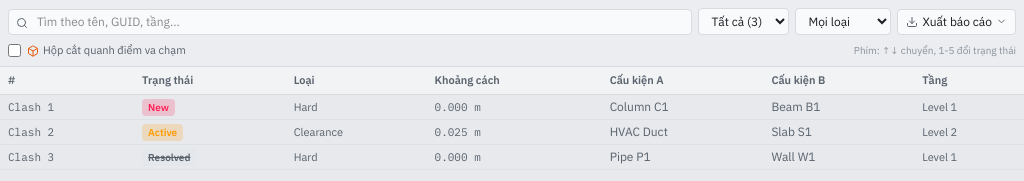
Test case: ClashResultsTable component & interactive review › filters rows by status and search query
The image size is (1024, 181).
# Filter by status Active
Select "Active" in the dropdown with test id "status-filter-select" at (744, 22), box x1=698 y1=8 x2=789 y2=35
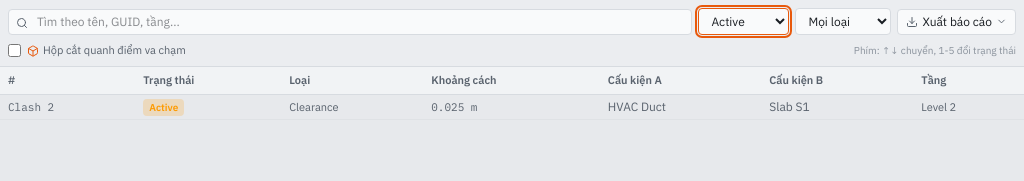
Expected: the text "Clash 2" is shown, x1=0 y1=94 x2=135 y2=120
Result: the text "Clash 1" is gone
Result: the text "Clash 3" is gone
# Reset status filter and search query
Select "Tất cả (3)" in the dropdown with test id "status-filter-select" at (744, 22), box x1=698 y1=8 x2=789 y2=35
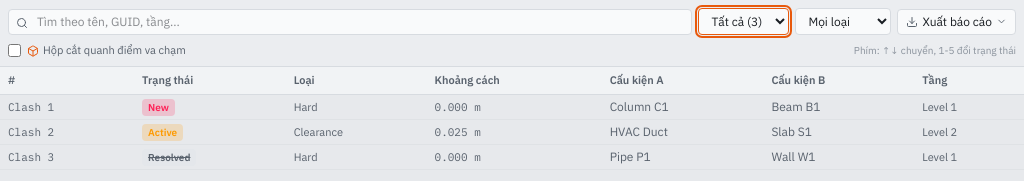
Type "Pipe" into the field with test id "clash-search-input".
click(350, 22); type("Pipe")  # box x1=8 y1=8 x2=692 y2=34
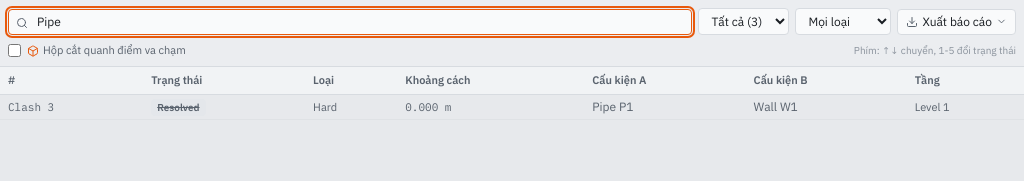
Result: the text "Clash 3" is shown at x1=0 y1=94 x2=143 y2=120
Result: the text "Clash 1" is gone
Result: the text "Clash 2" is gone
